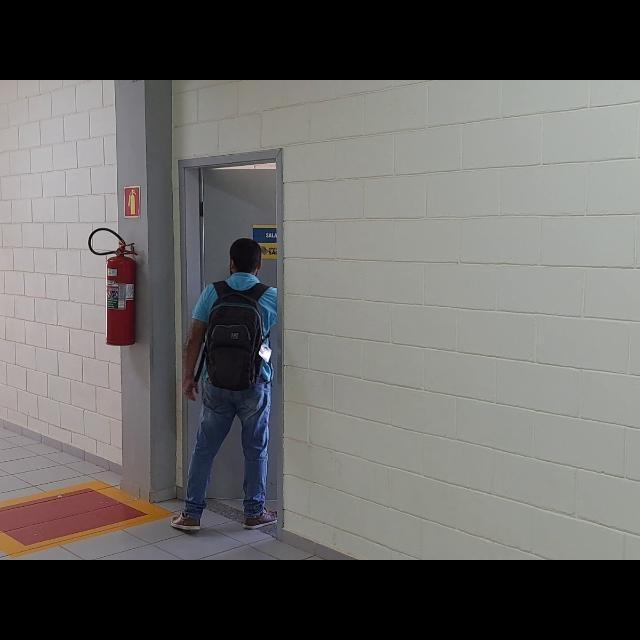door: (175, 147, 283, 535)
